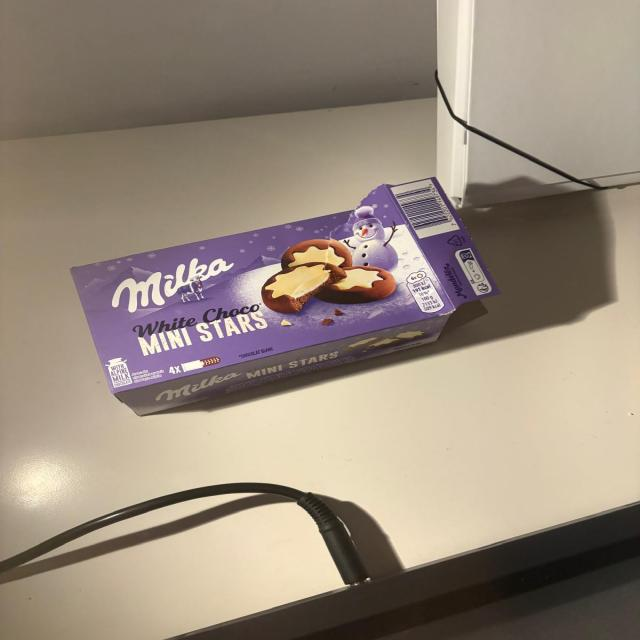damaged_package: (75, 178, 499, 417)
